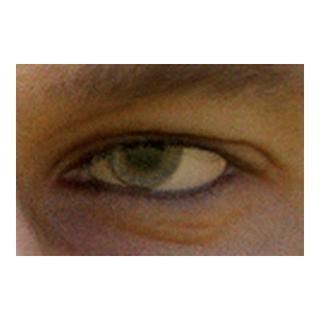pupil: (123, 127, 165, 168)
